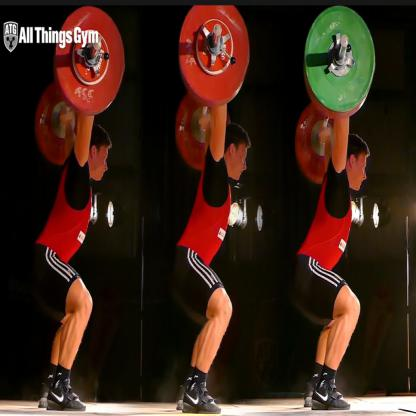Barbell: (50, 2, 128, 123), (302, 1, 378, 118)
